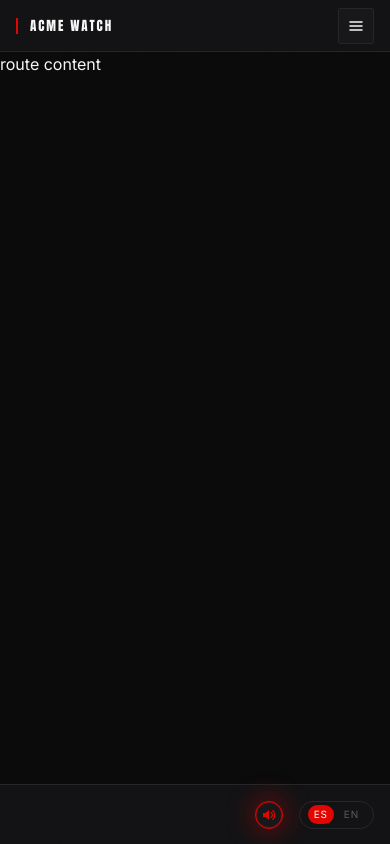
Mobile navigation — top bar + drawer › a site-nav tap navigates and closes the drawer
This screenshot has width=390, height=844.
Click the button named "Menú": (356, 26) x1=338 y1=8 x2=374 y2=44
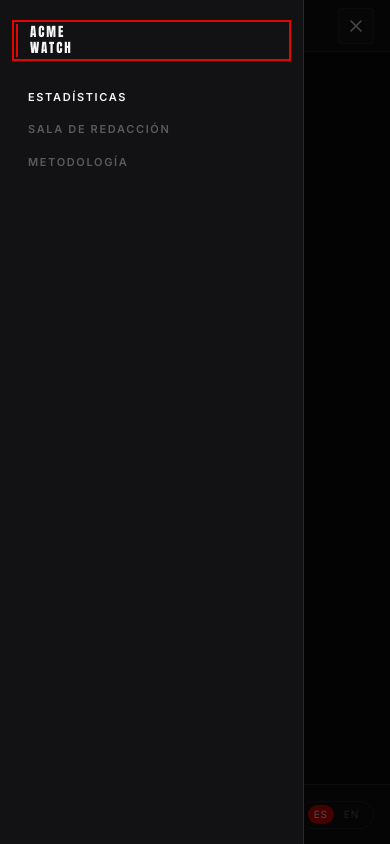
Click the link "Sala de Redacción": (99, 129) x1=28 y1=122 x2=170 y2=136
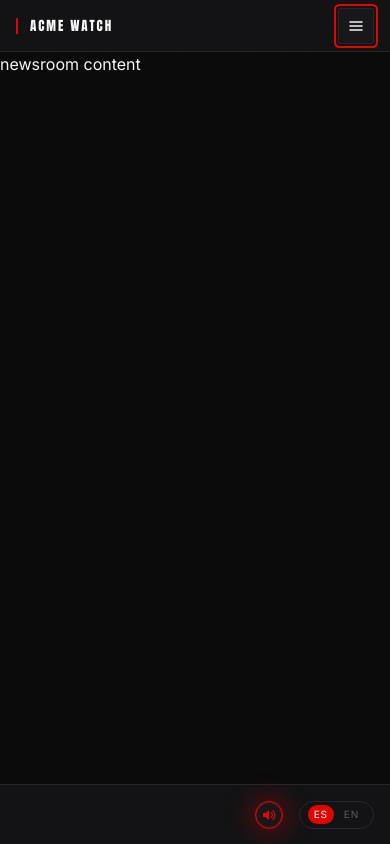
expect the text "newsroom content" is shown: met, box x1=0 y1=54 x2=141 y2=74
expect the dialog is gone: met
